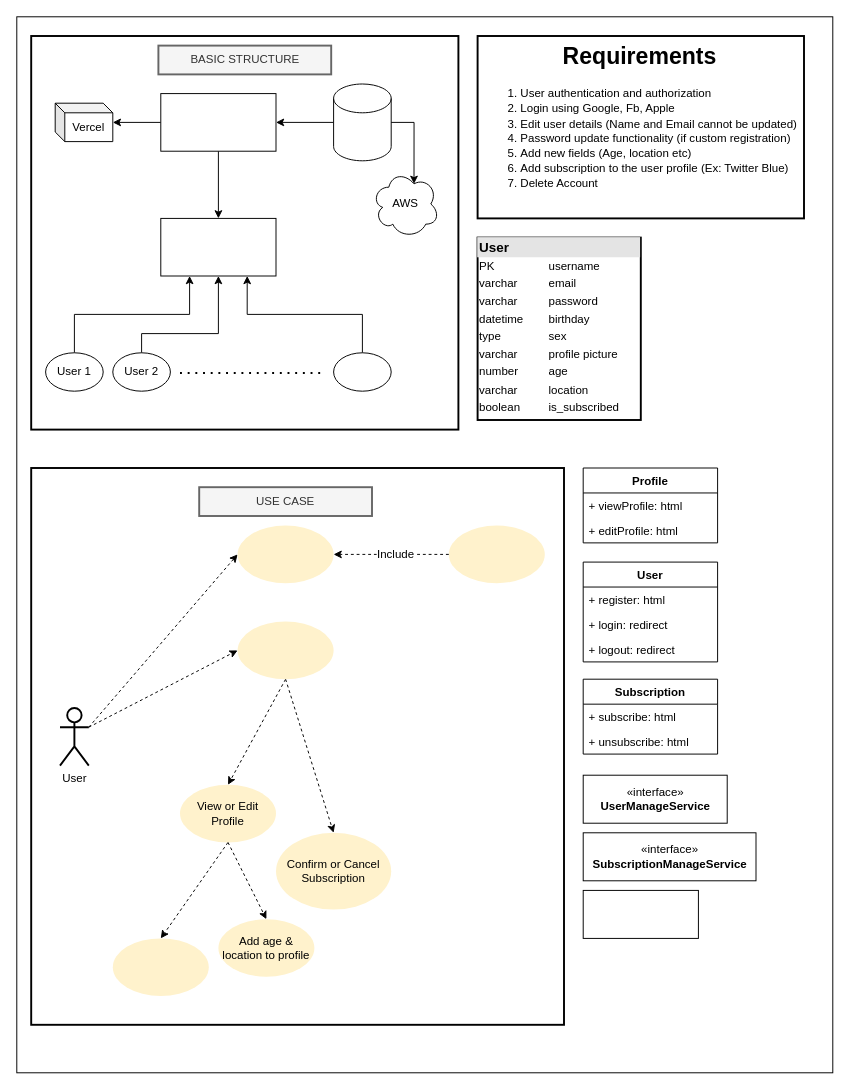
This 850x1090 diagram has some shape labels left out. The shapes that lost their labels are listed below. From the top down, each one's centre as x and y in pixels, then its label:
At (x=218, y=122): "Django Server".
At (x=362, y=122): "DB postgres".
At (x=218, y=246): "Client App".
At (x=362, y=371): "User n".
At (x=285, y=554): "Register".
At (x=496, y=554): "OAuth".
At (x=285, y=650): "Login User".
At (x=640, y=913): "«interface» AuthService".
At (x=160, y=967): "Access profile details - name, email".
